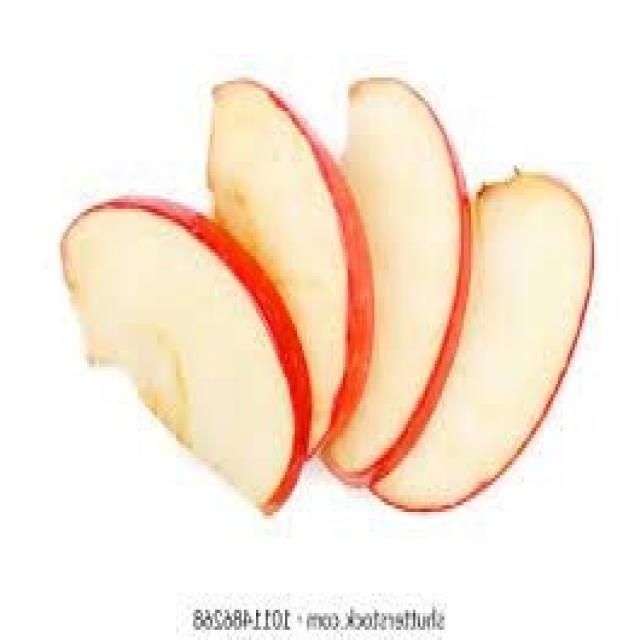Apple: (46, 162, 336, 508), (348, 165, 599, 549), (282, 71, 476, 502), (194, 71, 346, 468)
